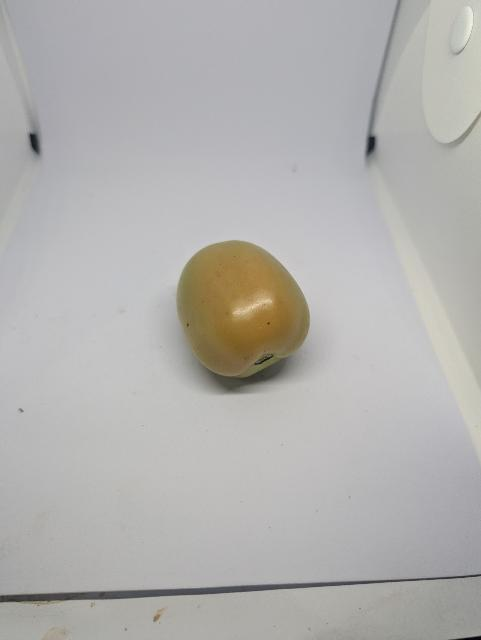breaker: (173, 237, 315, 387)
